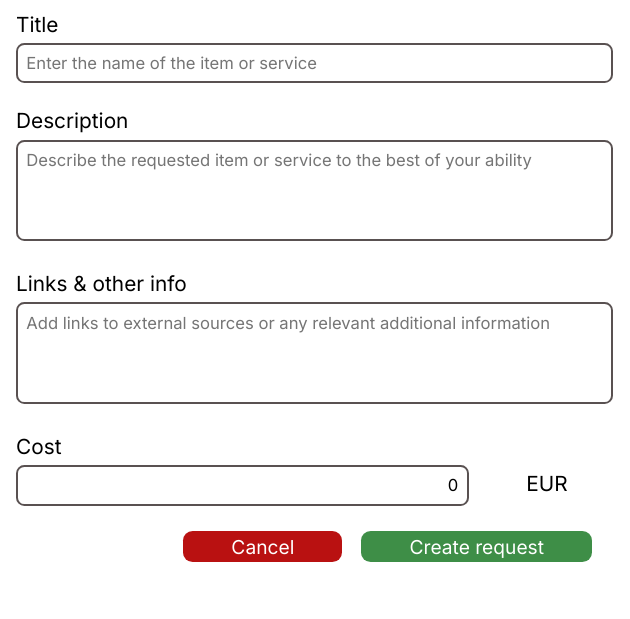
Scenario: validates empty title
Click the button "Create request": (477, 547) [362, 531, 592, 562]
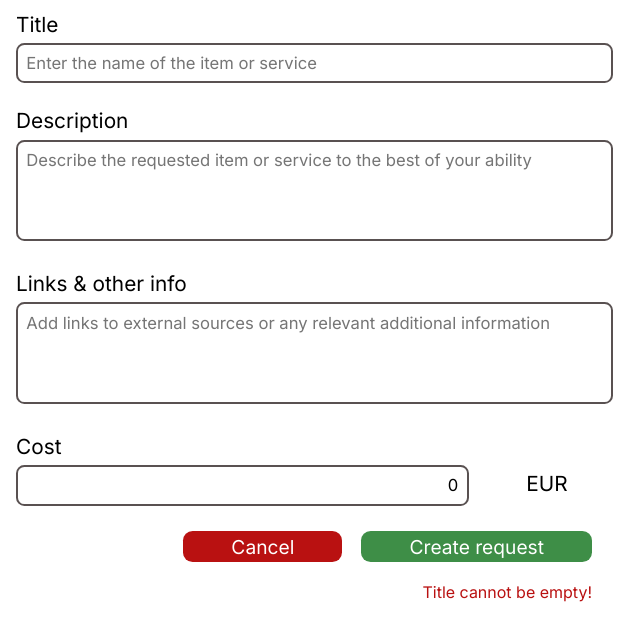
Now the text "Title cannot be empty!" is shown, box [422, 582, 592, 602]
